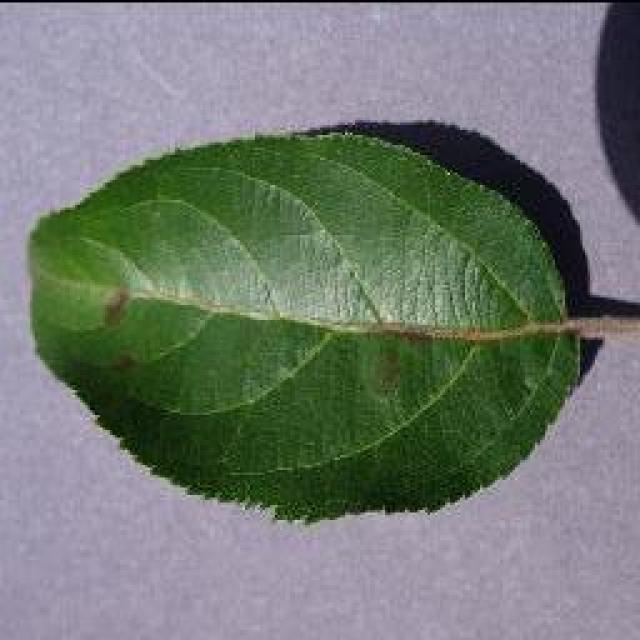apple scab disease: (25, 120, 605, 525)
